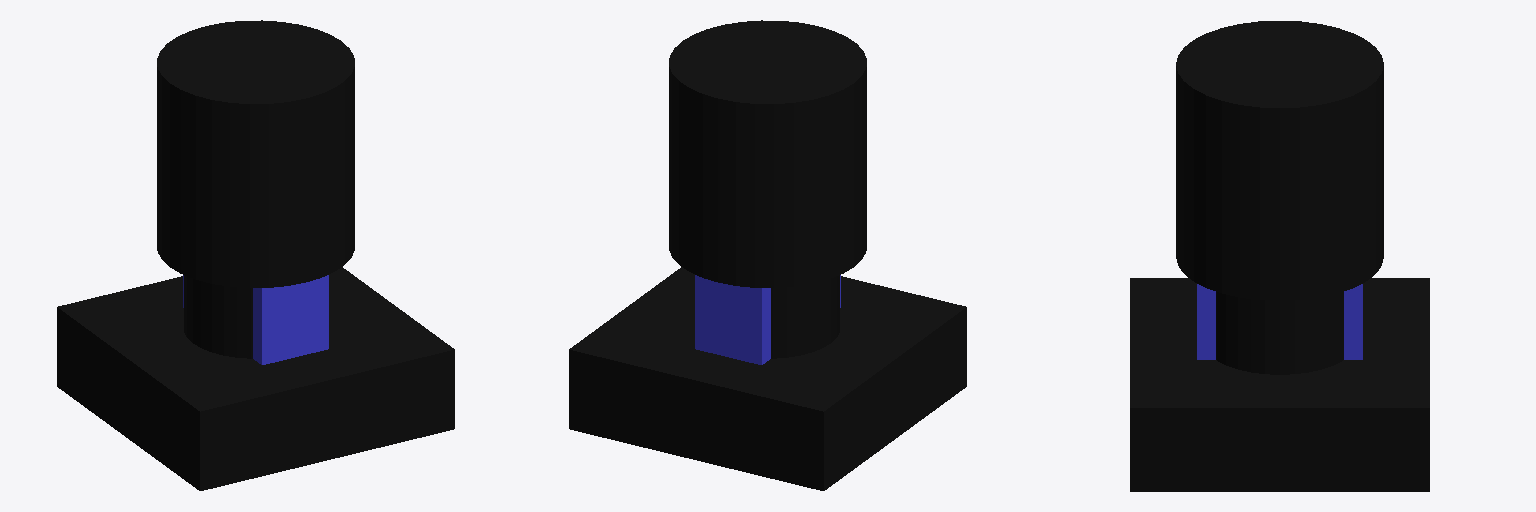
robot.urdf — evolved_robot:
<?xml version="1.0"?>
<robot name="evolved_robot">
  <material name="metal">
    <color rgba="0.7 0.7 0.7 1.0"/>
  </material>
  <material name="plastic">
    <color rgba="0.3 0.3 0.9 1.0"/>
  </material>
  <material name="rubber">
    <color rgba="0.1 0.1 0.1 1.0"/>
  </material>
  <material name="red">
    <color rgba="1.0 0.0 0.0 1.0"/>
  </material>
  <material name="wheel_material">
    <color rgba="0.2 0.2 0.2 1.0"/>
  </material>
  <link name="base_link">
    <visual>
      <geometry><box size="0.30694219765450376 0.2987526563359437 0.09179737753504208"/></geometry>
      <material name="rubber"/>
    </visual>
    <collision>
      <geometry><box size="0.30694219765450376 0.2987526563359437 0.09179737753504208"/></geometry>
    </collision>
    <inertial>
      <mass value="5.0"/>
      <inertia ixx="0.08139992349174462" ixy="0" ixz="0" 
               iyy="0.08553355935273958" iyz="0" 
               izz="0.15288888530729913"/>
    </inertial>
  </link>
  <link name="link1">
    <visual>
      <geometry><cylinder radius="0.0756283271748905" length="0.2229675233637658"/></geometry>
      <material name="rubber"/>
    </visual>
    <collision>
      <geometry><cylinder radius="0.0756283271748905" length="0.2229675233637658"/></geometry>
    </collision>
    <inertial>
      <mass value="0.5"/>
      <inertia ixx="0.005572787340732357" ixy="0" ixz="0" 
               iyy="0.005572787340732357" iyz="0" 
               izz="0.0028598219356361404"/>
    </inertial>
  </link>
  <joint name="joint1" type="prismatic">
    <parent link="base_link"/>
    <child link="link1"/>
    <origin xyz="0 0 0.04589868876752104" rpy="0 0 0"/>
    <axis xyz="-0.47899605747759705 0.7462747338091156 -0.4622086093952083"/>
    <dynamics damping="0.8843855161457318" friction="0.1"/>
    <limit lower="-1.6942143091198556" upper="0.942" effort="100" velocity="100"/>
  </joint>
  <link name="link2">
    <visual>
      <geometry><cylinder radius="0.07488428800528255" length="0.11696022994158331"/></geometry>
      <material name="rubber"/>
    </visual>
    <collision>
      <geometry><cylinder radius="0.07488428800528255" length="0.11696022994158331"/></geometry>
    </collision>
    <inertial>
      <mass value="0.5"/>
      <inertia ixx="0.0025418887631801956" ixy="0" ixz="0" 
               iyy="0.0025418887631801956" iyz="0" 
               izz="0.0028038282950290515"/>
    </inertial>
  </link>
  <joint name="joint2" type="revolute">
    <parent link="base_link"/>
    <child link="link2"/>
    <origin xyz="0 0 0.09589868876752104" rpy="0 0 0"/>
    <axis xyz="0.8241358970243934 -0.028953226267285435 -0.5656516011862017"/>
    <dynamics damping="0.21473641413641037" friction="0.1"/>
    <limit lower="-2.501339023958599" upper="0.42828756965598386" effort="100" velocity="100"/>
  </joint>
  <link name="link3">
    <visual>
      <geometry><box size="0.08099026250373252 0.16597400461739115 0.22326417033343804"/></geometry>
      <material name="plastic"/>
    </visual>
    <collision>
      <geometry><box size="0.08099026250373252 0.16597400461739115 0.22326417033343804"/></geometry>
    </collision>
    <inertial>
      <mass value="0.5"/>
      <inertia ixx="0.006449521663617685" ixy="0" ixz="0" 
               iyy="0.004700526031258495" iyz="0" 
               izz="0.0028422327357631068"/>
    </inertial>
  </link>
  <joint name="joint3" type="fixed">
    <parent link="base_link"/>
    <child link="link3"/>
    <origin xyz="0 0 0.14589868876752105" rpy="0 0 0"/>
    <axis xyz="-0.8132508883129476 -0.31010165298727155 0.49240223138483386"/>
    <dynamics damping="0.33229196770867" friction="0.1"/>
  </joint>
  <link name="link4">
    <visual>
      <geometry><cylinder radius="0.06656798904426811" length="0.239655319568697"/></geometry>
      <material name="metal"/>
    </visual>
    <collision>
      <geometry><cylinder radius="0.06656798904426811" length="0.239655319568697"/></geometry>
    </collision>
    <inertial>
      <mass value="0.5"/>
      <inertia ixx="0.005894046974480641" ixy="0" ixz="0" 
               iyy="0.005894046974480641" iyz="0" 
               izz="0.0022156485826988997"/>
    </inertial>
  </link>
  <joint name="joint4" type="prismatic">
    <parent link="base_link"/>
    <child link="link4"/>
    <origin xyz="0 0 0.19589868876752106" rpy="0 0 0"/>
    <axis xyz="0.161428726763776 -0.8822884217177475 -0.4421627608451808"/>
    <dynamics damping="0.8657870327445304" friction="0.1"/>
    <limit lower="-1.7860962469749193" upper="0.31400000000000006" effort="100" velocity="100"/>
  </joint>
  <link name="link5">
    <visual>
      <geometry><cylinder radius="0.10352984748532114" length="0.21169919374858331"/></geometry>
      <material name="rubber"/>
    </visual>
    <collision>
      <geometry><cylinder radius="0.10352984748532114" length="0.21169919374858331"/></geometry>
    </collision>
    <inertial>
      <mass value="0.5"/>
      <inertia ixx="0.006414319716233481" ixy="0" ixz="0" 
               iyy="0.006414319716233481" iyz="0" 
               izz="0.005359214660166928"/>
    </inertial>
  </link>
  <joint name="joint5" type="fixed">
    <parent link="base_link"/>
    <child link="link5"/>
    <origin xyz="0 0 0.24589868876752105" rpy="0 0 0"/>
    <axis xyz="0.6067325894830736 0.6905814286381073 -0.3936659183613877"/>
    <dynamics damping="0.3688987113063372" friction="0.1"/>
  </joint>
</robot>

--- Render facts (derived) ---
3 views of the same robot in one strip: view 1: azimuth 30°, elevation 25°; view 2: azimuth 150°, elevation 25°; view 3: azimuth 270°, elevation 25° (orthographic).
Robot: evolved_robot — 6 links, 5 joints (1 revolute, 2 prismatic, 2 fixed); root link base_link; default pose: every joint at zero.
Links seen in each view (by area): view 1: base_link, link5, link3, link1; view 2: base_link, link5, link3, link1; view 3: link5, base_link, link1, link3.
Link boxes in pixels (x1,y1,x2,y2): base_link: (57,267,454,490); link5: (157,20,354,287); link3: (183,275,328,364); link1: (184,275,252,358); base_link: (569,267,966,490); link5: (669,20,866,287); link3: (695,275,840,364); link1: (771,275,839,358); link5: (1176,21,1383,300); base_link: (1130,278,1429,491); link1: (1216,292,1343,374); link3: (1197,284,1362,359).
Bounding box of the posed robot: 0.3069 × 0.2988 × 0.4173 m (x, y, z).
Geometry: primitives only (box / cylinder / sphere), no mesh files.